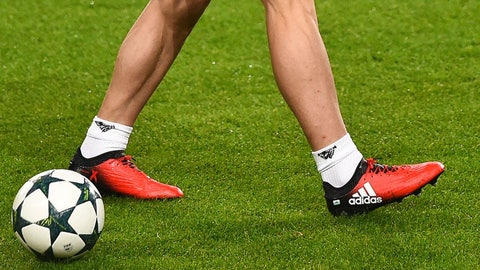football boots: (318, 156, 445, 218), (69, 145, 187, 204)
